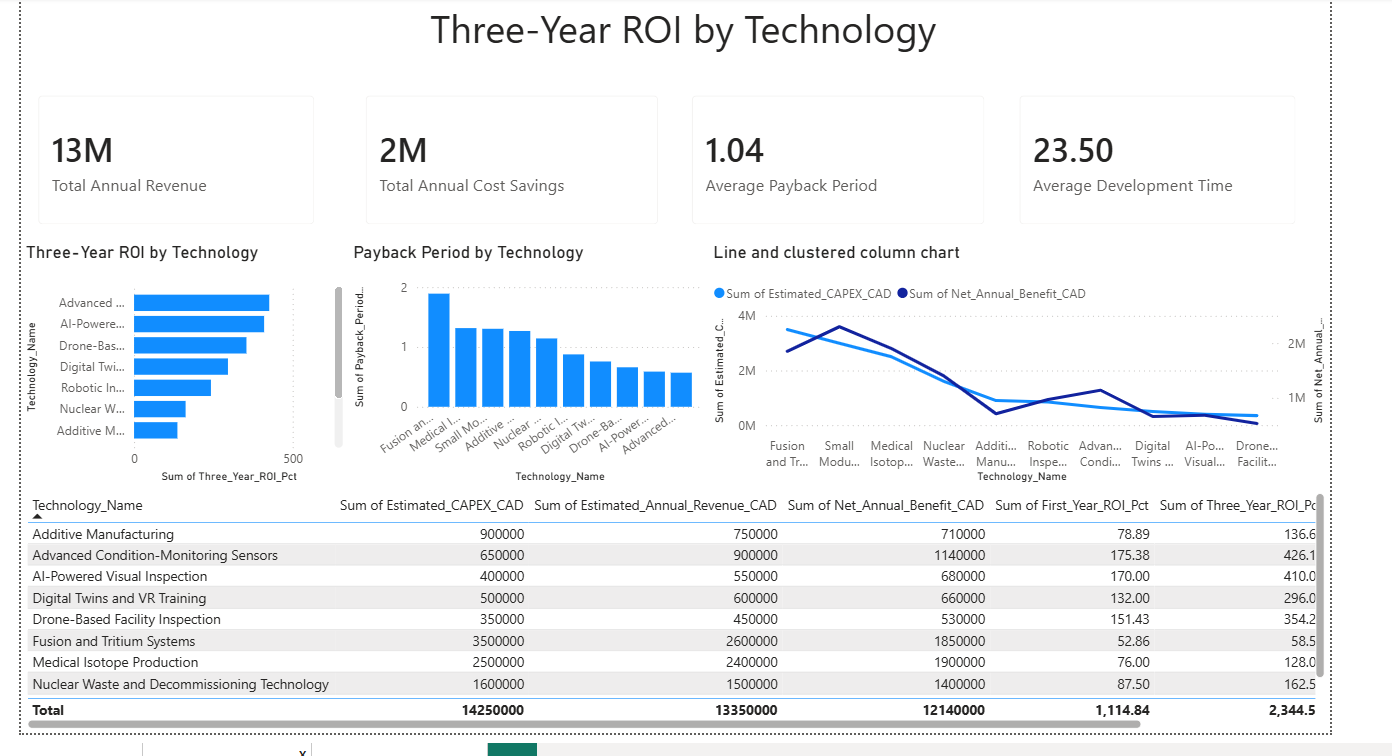

What the dashboard file says about the page in this screenshot:
{"tool":"powerbi","page":{"name":"Financial Analysis","canvas":[1280,720],"ordinal":1},"visuals":[{"type":"textbox","box":[16,0,1264,80],"z":0},{"type":"cardVisual","fields":{"Data":["Nuclear Technology Analysis.Total Annual Revenue"]},"box":[0,80,304,160],"z":1},{"type":"cardVisual","fields":{"Data":["Nuclear Technology Analysis.Total Annual Cost Savings"]},"box":[320,80,320,160],"z":2},{"type":"cardVisual","fields":{"Data":["Nuclear Technology Analysis.Average Payback Period"]},"box":[640,80,320,160],"z":3},{"type":"cardVisual","fields":{"Data":["Nuclear Technology Analysis.Average Development Time"]},"box":[960,80,304,160],"z":4},{"type":"clusteredBarChart","title":"Three-Year ROI by Technology","fields":{"Category":["Nuclear Technology Analysis.Technology_Name"],"Y":["Sum(Nuclear Technology Analysis.Three_Year_ROI_Pct)"]},"box":[0,240,320,240],"z":5},{"type":"clusteredColumnChart","title":"Payback Period by Technology","fields":{"Category":["Nuclear Technology Analysis.Technology_Name"],"Y":["Sum(Nuclear Technology Analysis.Payback_Period_Years)"]},"box":[320,240,352,240],"z":6},{"type":"lineChart","title":"Line and clustered column chart","fields":{"Category":["Nuclear Technology Analysis.Technology_Name"],"Y":["Sum(Nuclear Technology Analysis.Estimated_CAPEX_CAD)"],"Y2":["Sum(Nuclear Technology Analysis.Net_Annual_Benefit_CAD)"]},"box":[672,240,608,240],"z":7},{"type":"tableEx","fields":{"Values":["Nuclear Technology Analysis.Technology_Name","Sum(Nuclear Technology Analysis.Estimated_CAPEX_CAD)","Sum(Nuclear Technology Analysis.Estimated_Annual_Revenue_CAD)","Sum(Nuclear Technology Analysis.Net_Annual_Benefit_CAD)","Sum(Nuclear Technology Analysis.First_Year_ROI_Pct)","Sum(Nuclear Technology Analysis.Three_Year_ROI_Pct)","Sum(Nuclear Technology Analysis.Payback_Period_Years)"]},"box":[0,480,1280,240],"z":8}]}

Visuals, with their boxes on the page's 1280x720 design canvas (x1, y1, x2, y2). These are canvas units, not pixel positions in the 1392x756 screenshot, which may show the page scaled, cropped or inside an application window:
textbox: <region>16, 0, 1280, 80</region>
cardVisual - Nuclear Technology Analysis.Total Annual Revenue: <region>0, 80, 304, 240</region>
cardVisual - Nuclear Technology Analysis.Total Annual Cost Savings: <region>320, 80, 640, 240</region>
cardVisual - Nuclear Technology Analysis.Average Payback Period: <region>640, 80, 960, 240</region>
cardVisual - Nuclear Technology Analysis.Average Development Time: <region>960, 80, 1264, 240</region>
"Three-Year ROI by Technology" clusteredBarChart: <region>0, 240, 320, 480</region>
"Payback Period by Technology" clusteredColumnChart: <region>320, 240, 672, 480</region>
"Line and clustered column chart" lineChart: <region>672, 240, 1280, 480</region>
tableEx - Nuclear Technology Analysis.Technology_Name x Sum(Nuclear Technology Analysis.Estimated_CAPEX_CAD): <region>0, 480, 1280, 720</region>
